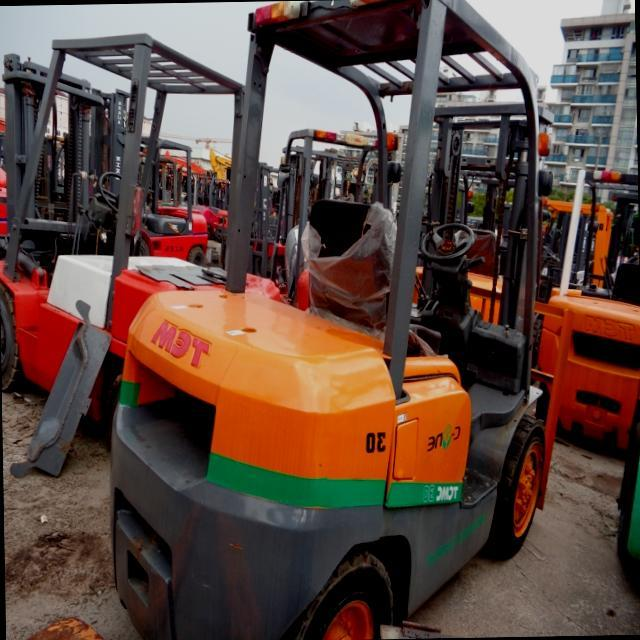forklift: (93, 3, 572, 627)
